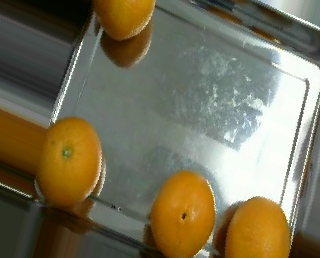Orange: (36, 117, 102, 206), (150, 169, 216, 257), (224, 195, 292, 258)
